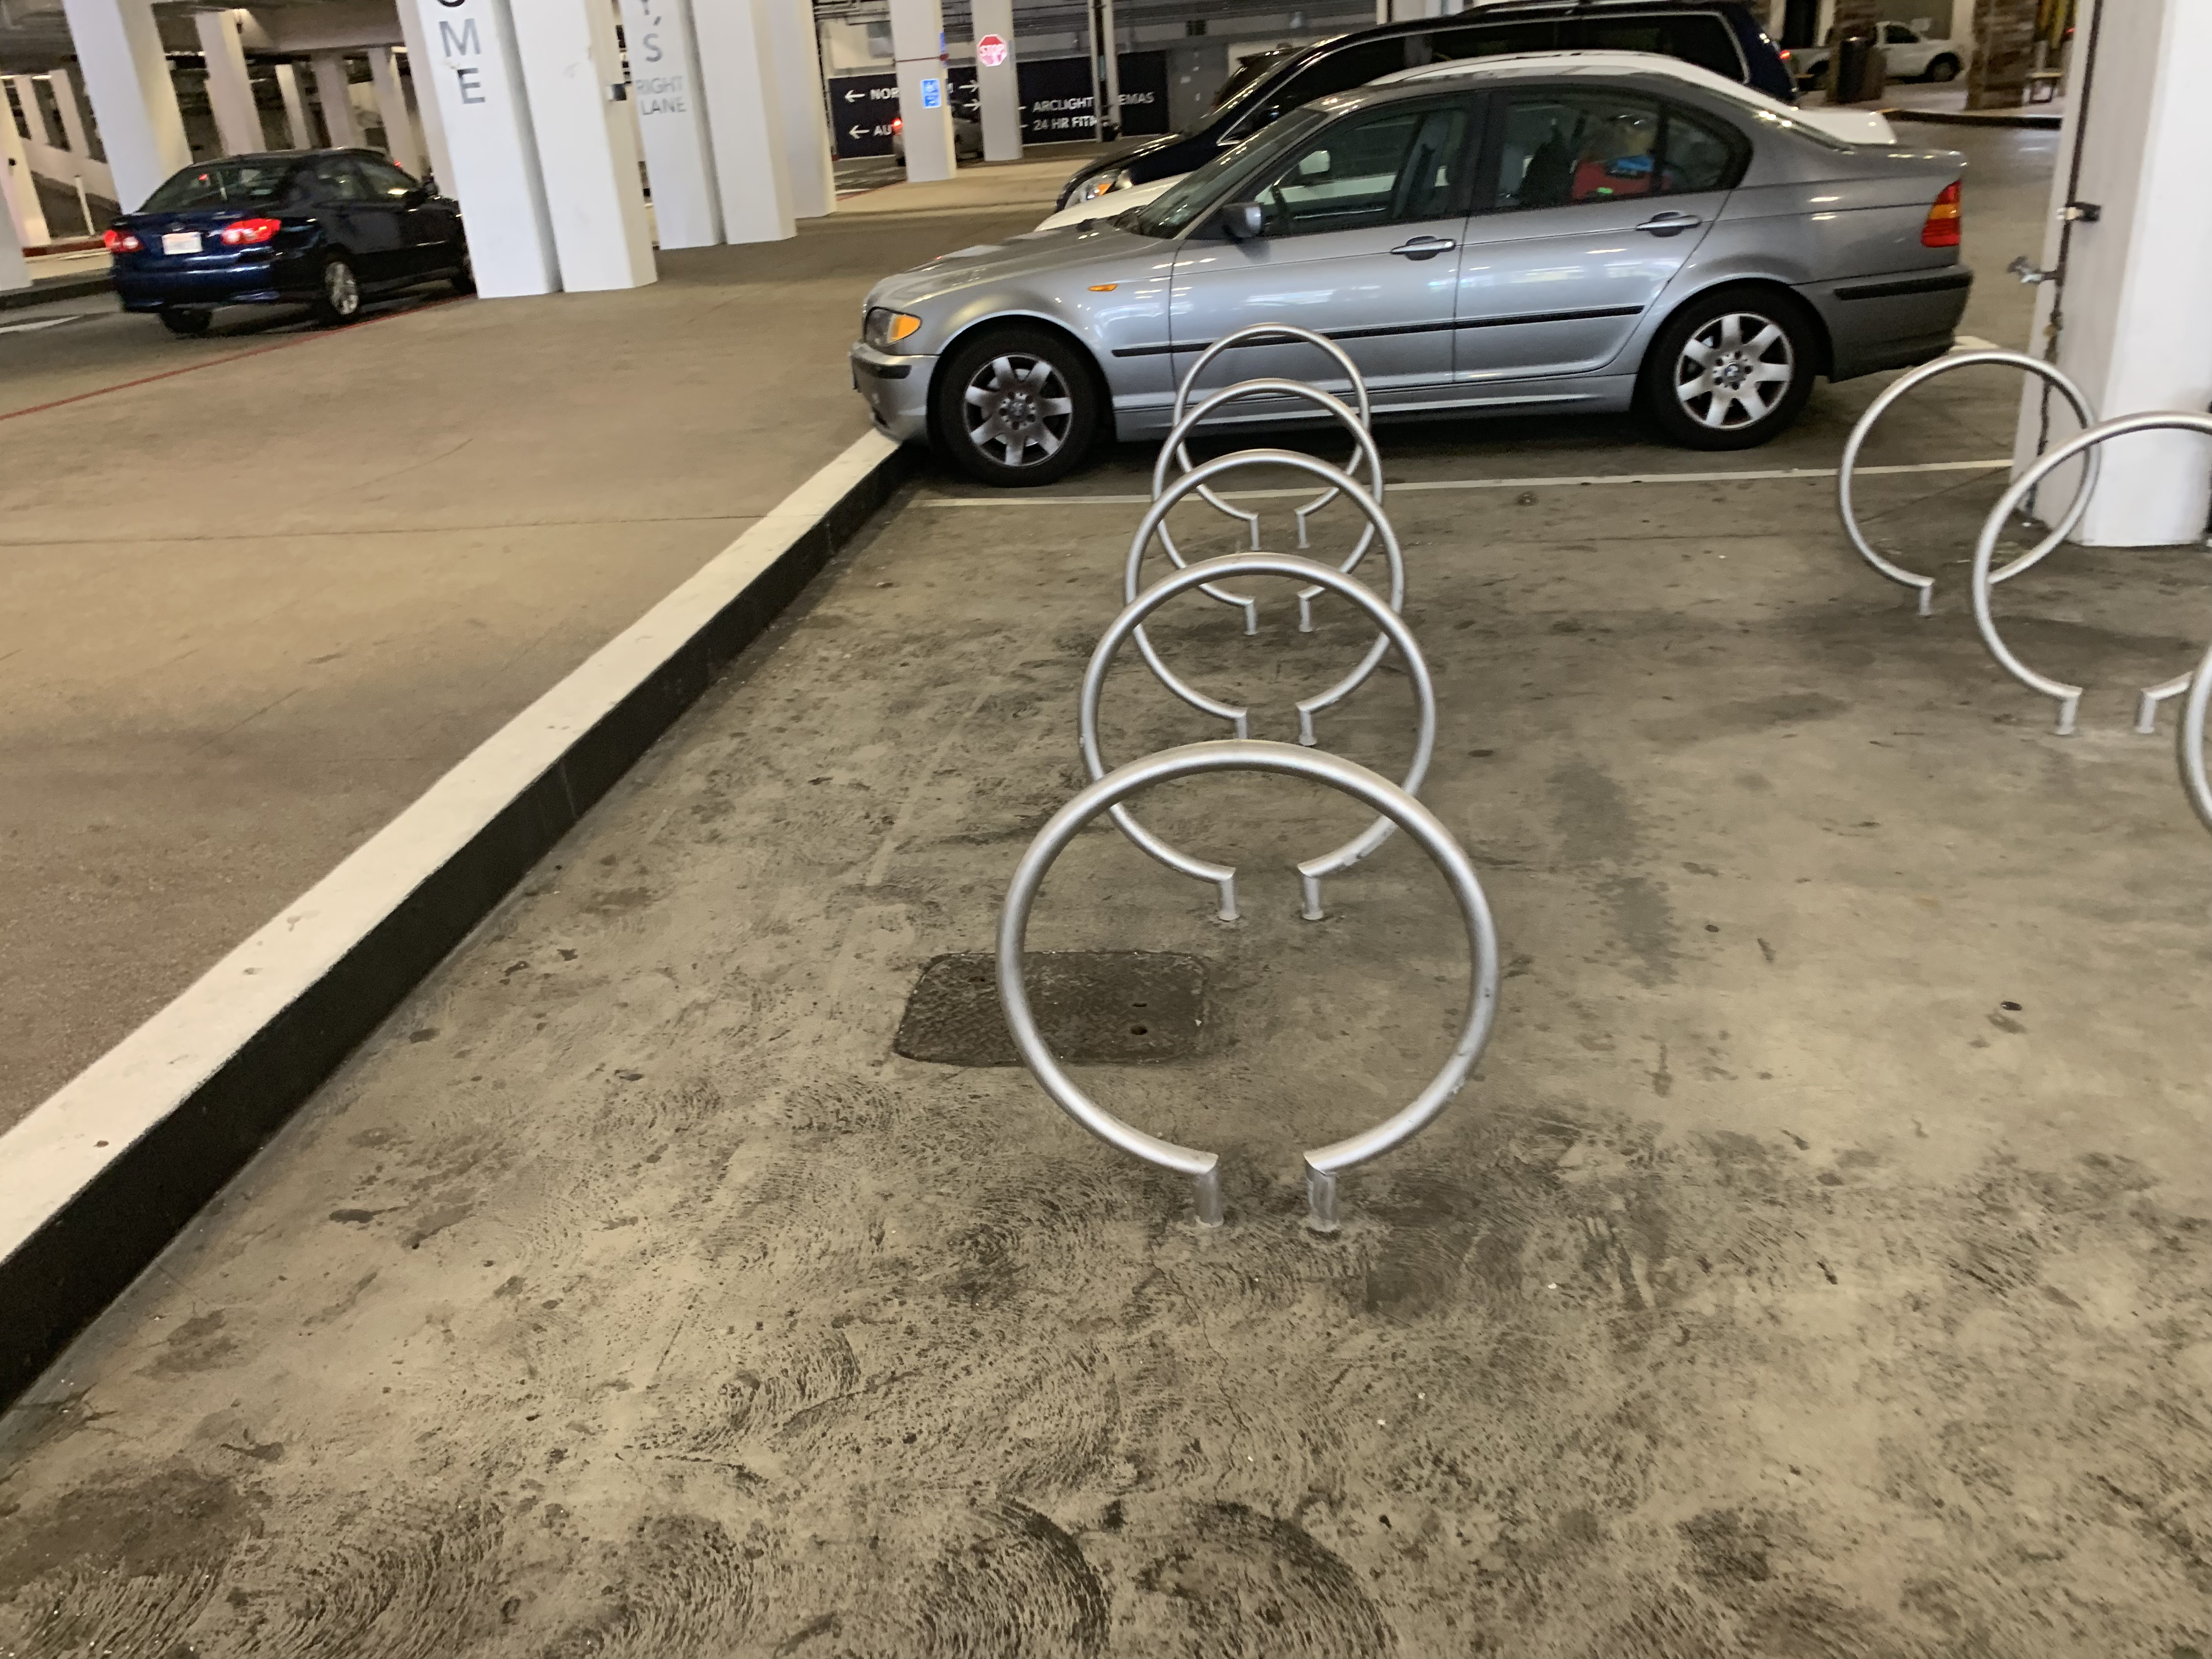Edge: (2, 458, 890, 1345)
Obstacle: (864, 3, 1996, 490), (1008, 342, 1510, 1218), (1791, 9, 2205, 823)
